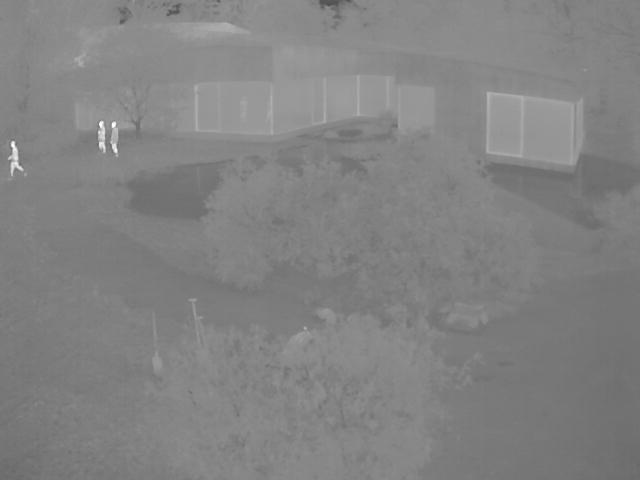person: (9, 140, 27, 177), (112, 120, 120, 157), (99, 119, 107, 153)
